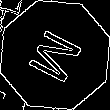M_SE: (22, 23, 88, 87)
